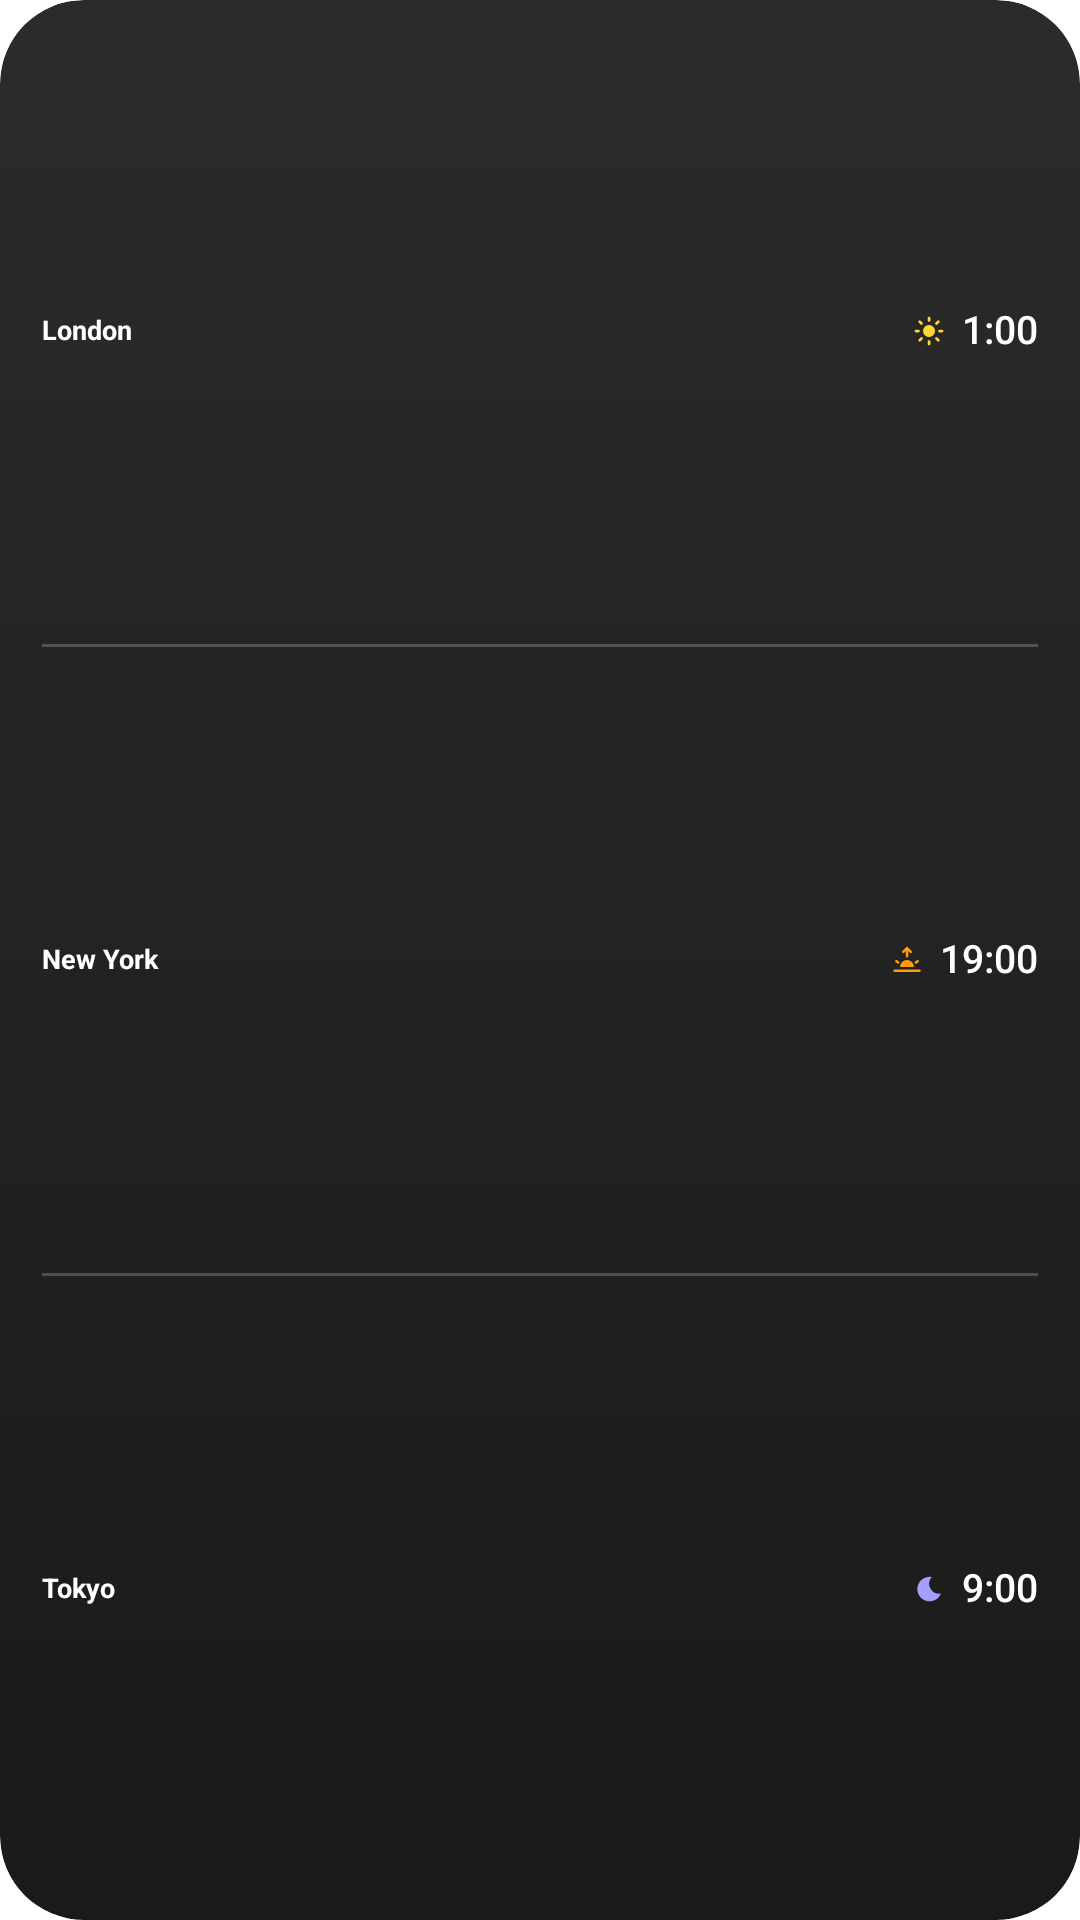

Where icons sit on this 1080*1920 app screen, as {"left": x1, "top": y1, "right": x2, "bottom": y2}:
moon: {"left": 917, "top": 1576, "right": 941, "bottom": 1602}
sun: {"left": 914, "top": 316, "right": 944, "bottom": 346}
sunrise: {"left": 893, "top": 947, "right": 921, "bottom": 972}
